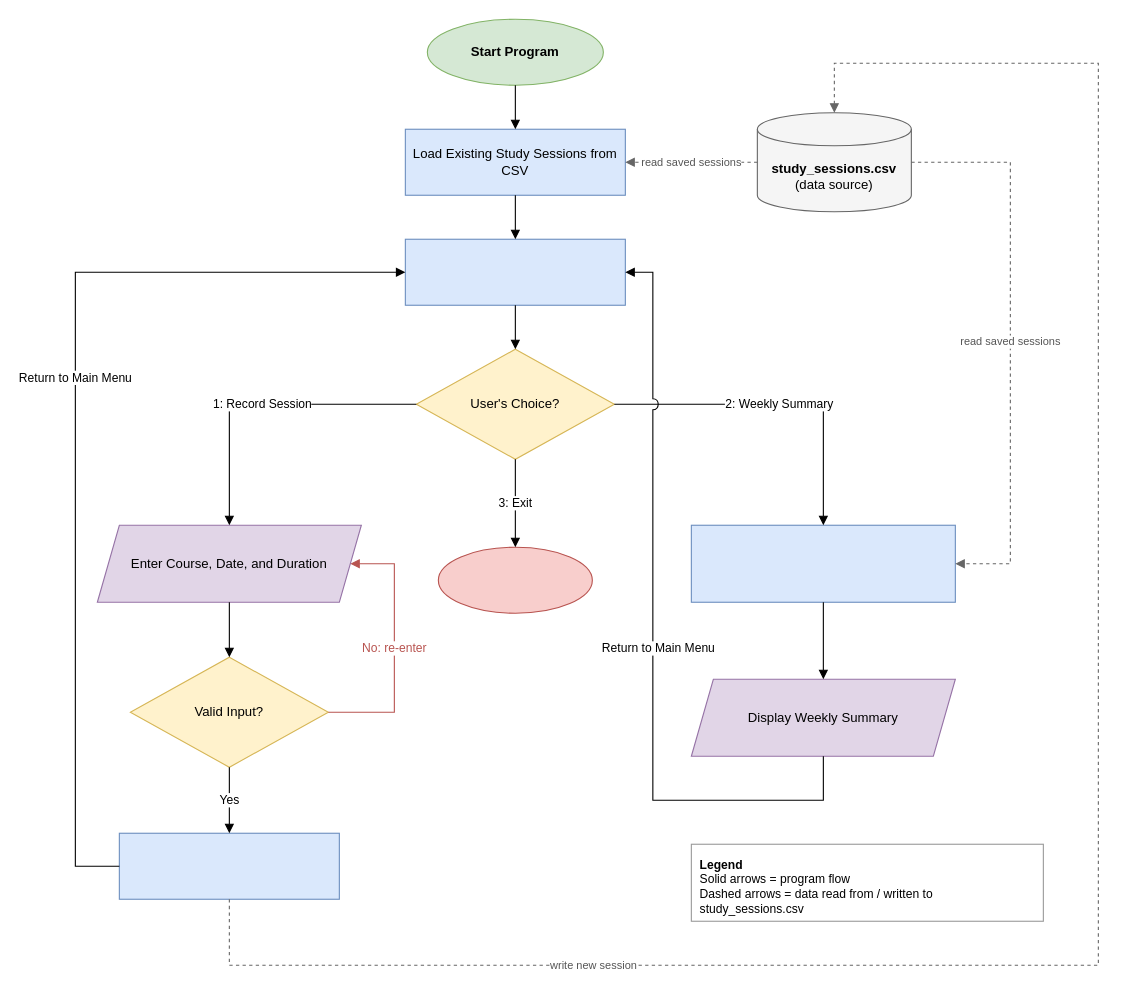
Some shapes in this 1126 by 993 pixel diagram are drawn without their labels. Each missing label, with the centre of its shape:
"Calculate Weekly Study Hours" goes at point 822,563.
"Display Main Menu" goes at point 514,271.
"End Program" goes at point 514,579.
"Save Study Session to CSV" goes at point 228,865.
